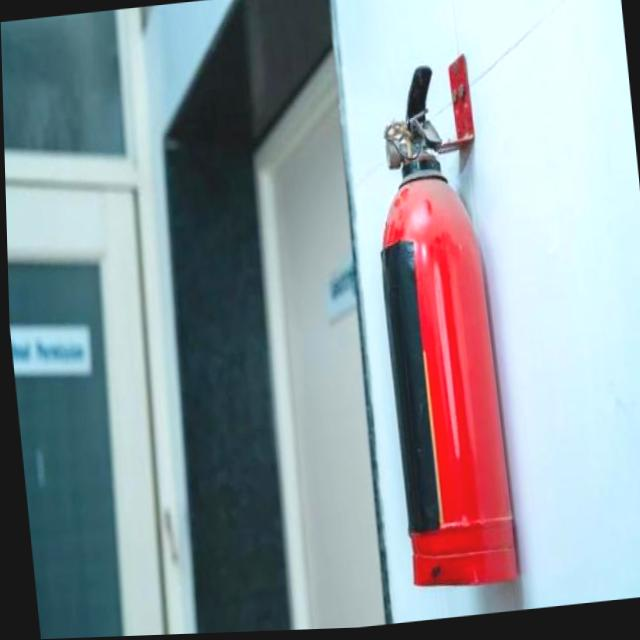FireExtinguisher: (352, 56, 519, 597)
